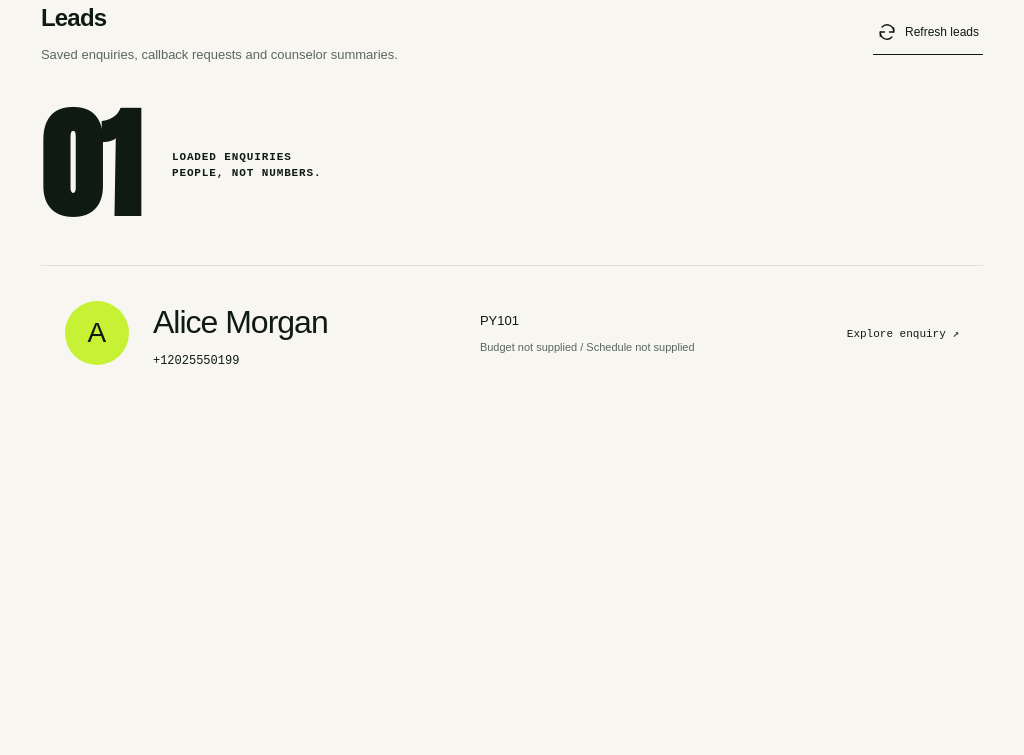
Scenario: lead expansion displays saved contact, callback and generated summary
Click the heading "Alice Morgan" at (240, 322), box [153,298,328,346]
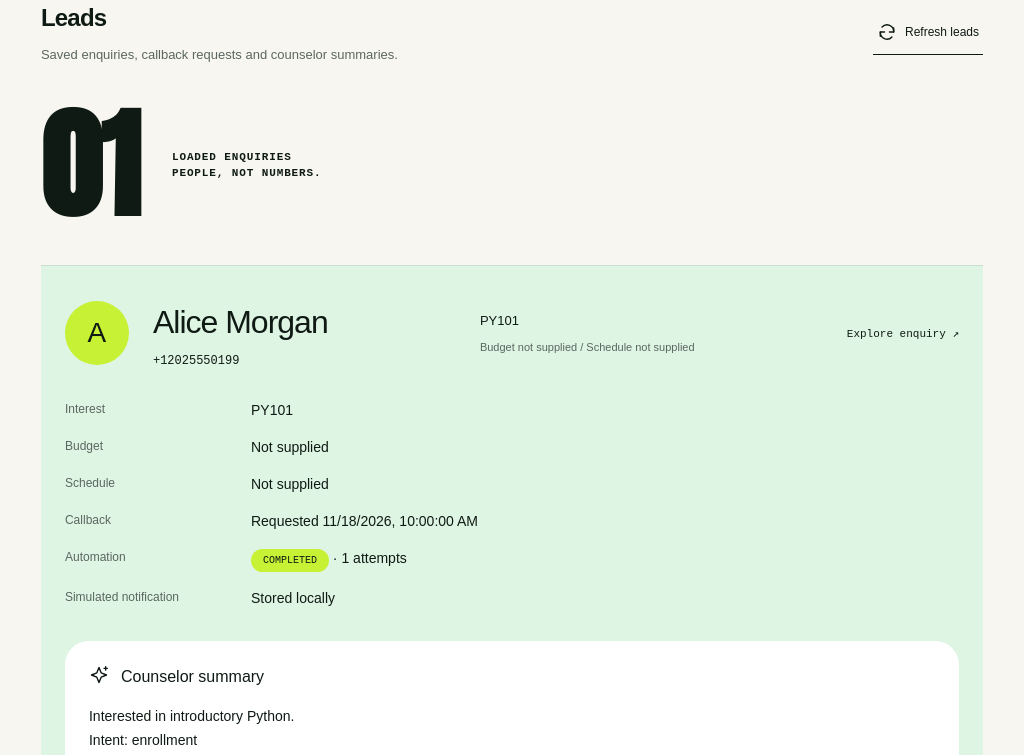
Check: the text "Interested in introductory Python." is shown, box [89,708,294,724]
Check: the text "Requested 11/18/2026, 10:00:00 AM" is shown, box [251,513,478,529]
Check: the text "Stored locally" is shown, box [251,590,335,606]
